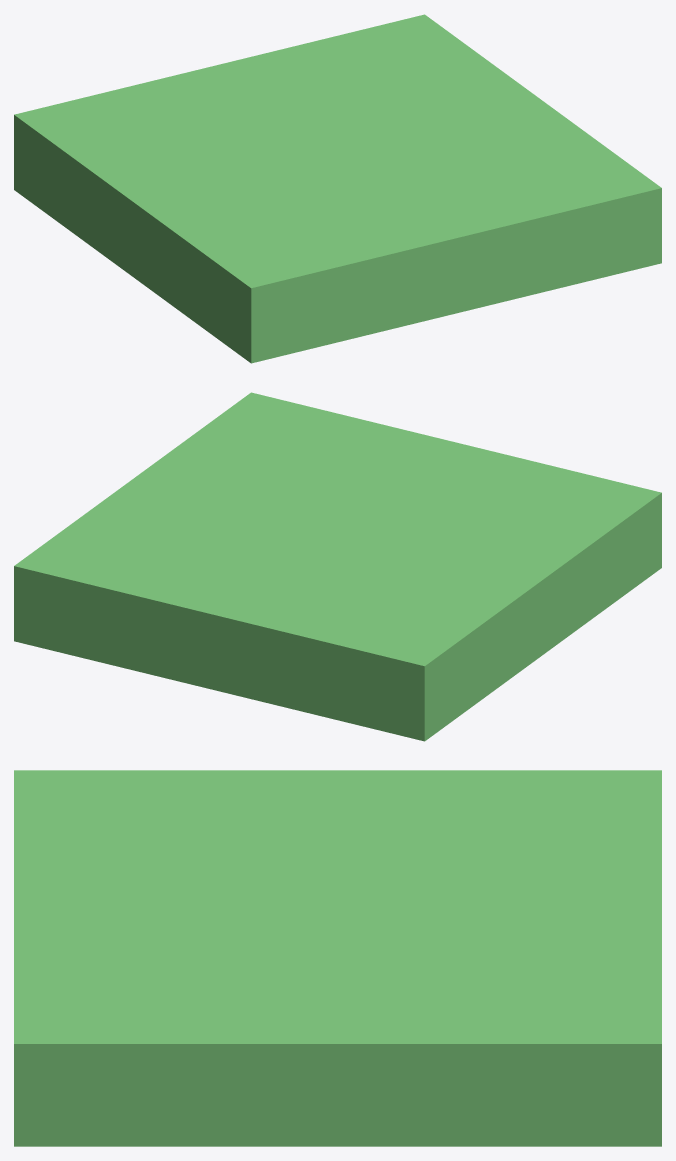
The model's file is Bld3_Roof_Flat_Mid_A_4x.fbx.
3 views of the same model, one above another, from view 1: azimuth 30°, elevation 25°; view 2: azimuth 150°, elevation 25°; view 3: azimuth 270°, elevation 25° (orthographic). The views are drawn at different scales.
Parts seen in each view (by area): view 1: Bld3_Roof_Flat_Mid_A_4x; view 2: Bld3_Roof_Flat_Mid_A_4x; view 3: Bld3_Roof_Flat_Mid_A_4x.
Part boxes in pixels (<box>): Bld3_Roof_Flat_Mid_A_4x: <box>14,14,661,363</box>; Bld3_Roof_Flat_Mid_A_4x: <box>14,392,661,741</box>; Bld3_Roof_Flat_Mid_A_4x: <box>14,770,661,1146</box>.
Size of the model in its own units: 600 by 105 by 600.
